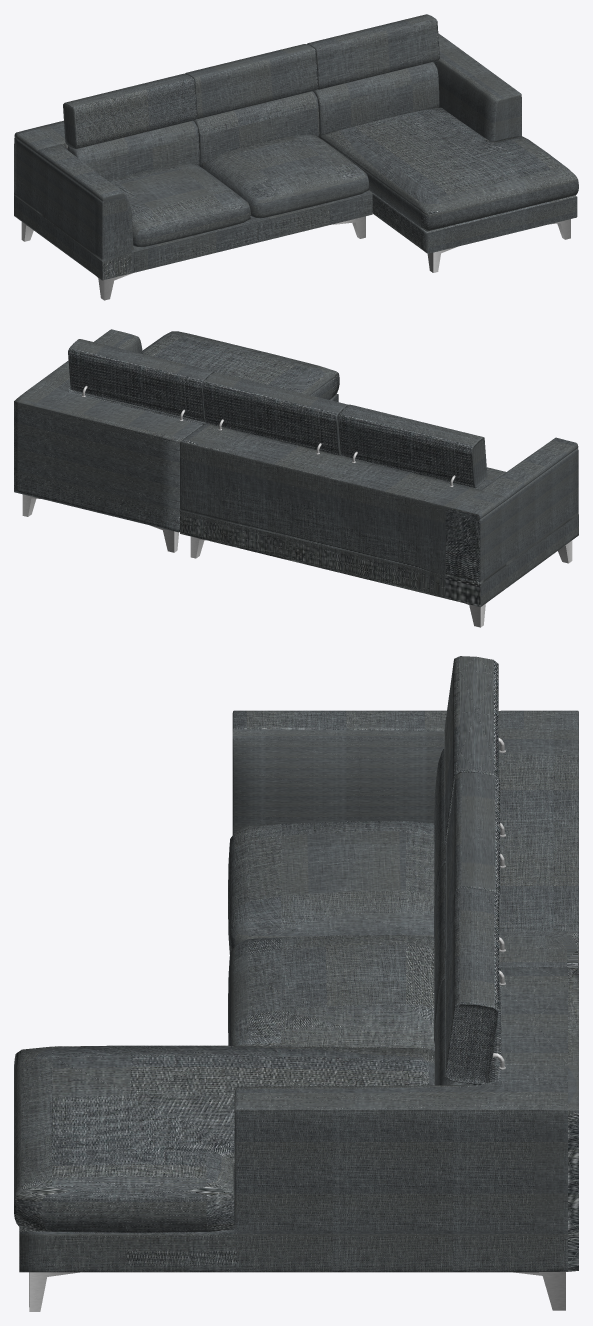
File: chelsea.obj
3 views of the same model, one above another, from view 1: azimuth 30°, elevation 25°; view 2: azimuth 150°, elevation 25°; view 3: azimuth 270°, elevation 25° (orthographic). The views are drawn at different scales.
Parts seen in each view (by area): view 1: Cube.008_Cube.015, Cube.000, Cube.007_Cube.011, Cube.013_Cube.018; view 2: Cube.007_Cube.011, Cube.000, Cube.008_Cube.015, Cube.013_Cube.018; view 3: Cube.007_Cube.011, Cube.008_Cube.015, Cube.000, Cube.013_Cube.018.
Part boxes in pixels (<box>): Cube.008_Cube.015: <box>108,107,578,247</box>; Cube.000: <box>63,14,439,180</box>; Cube.007_Cube.011: <box>14,33,577,280</box>; Cube.013_Cube.018: <box>21,216,570,300</box>; Cube.007_Cube.011: <box>14,329,578,606</box>; Cube.000: <box>68,339,487,489</box>; Cube.008_Cube.015: <box>142,331,505,486</box>; Cube.013_Cube.018: <box>22,494,572,627</box>; Cube.007_Cube.011: <box>19,710,578,1272</box>; Cube.008_Cube.015: <box>14,821,434,1232</box>; Cube.000: <box>434,656,500,1085</box>; Cube.013_Cube.018: <box>29,1272,565,1311</box>.
Size of the model in its own units: 107 by 35.21 by 62.81.
3 materials, 3 textured.
